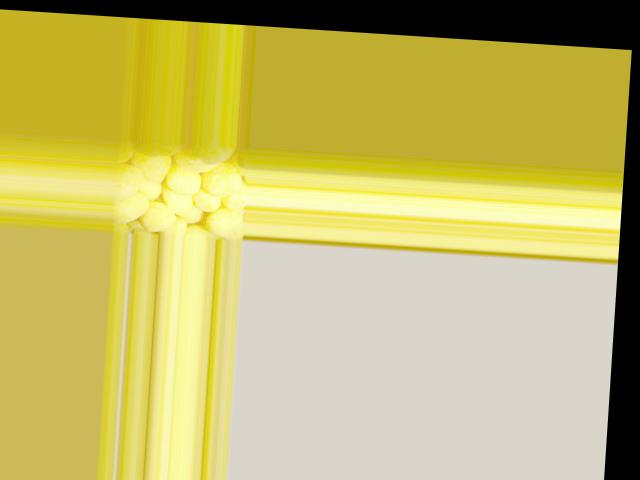lemon: (131, 200, 179, 235)
